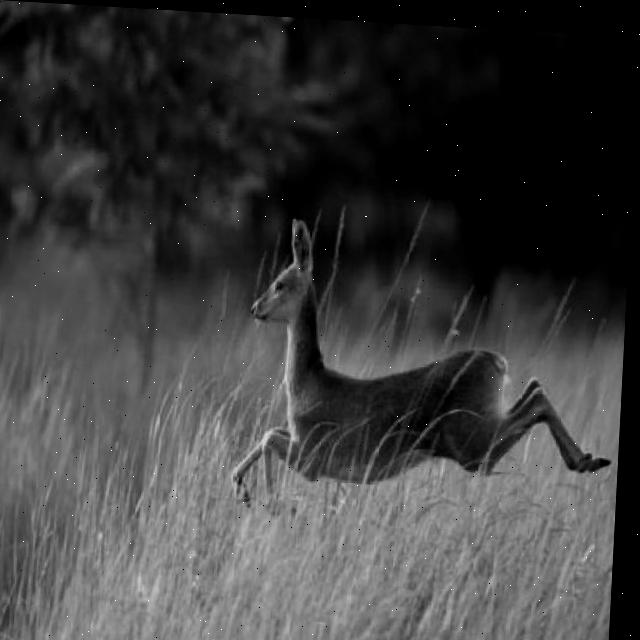Deer: (226, 206, 627, 538)
